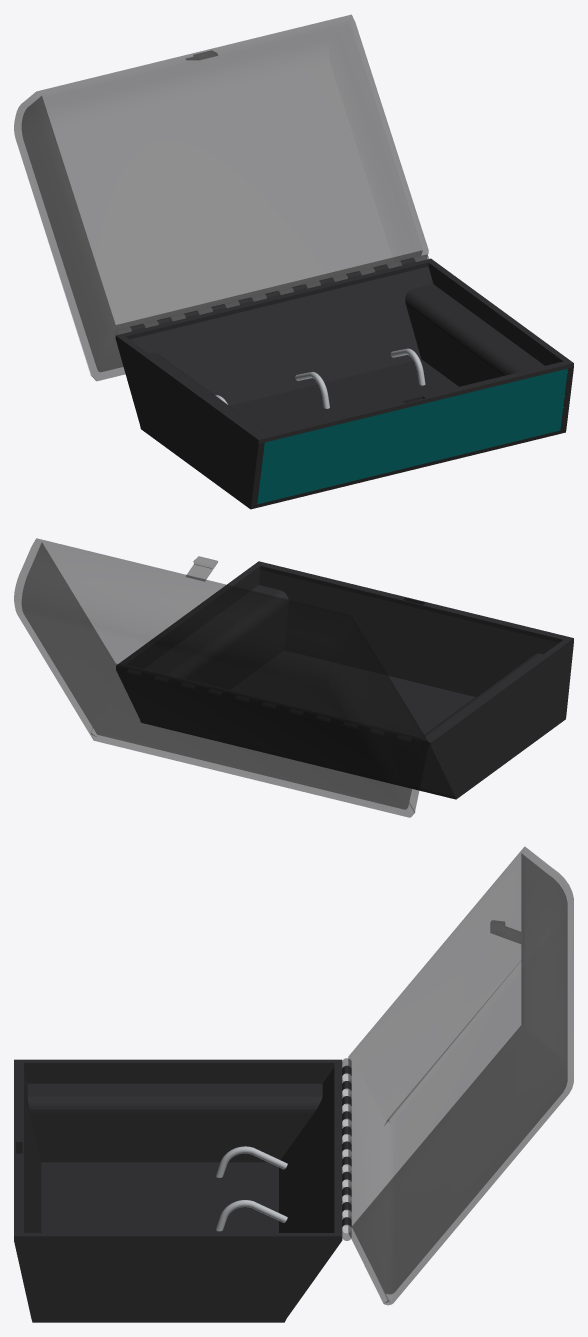
The model's file is rolodex.glb.
3 renders of one model, top to bottom at view 1: azimuth 30°, elevation 25°; view 2: azimuth 150°, elevation 25°; view 3: azimuth 270°, elevation 25°, orthographic. The views are drawn at different scales.
Parts seen in each view (by area): view 1: Lid, Case; view 2: Case, Lid; view 3: Case, Lid.
Part boxes in pixels (<box>): Lid: <box>14,14,428,381</box>; Case: <box>115,258,573,509</box>; Case: <box>116,561,573,799</box>; Lid: <box>14,538,428,817</box>; Case: <box>14,1059,351,1322</box>; Lid: <box>342,846,573,1305</box>.
Size of the model in its own units: 0.1357 by 0.1077 by 0.1769.
